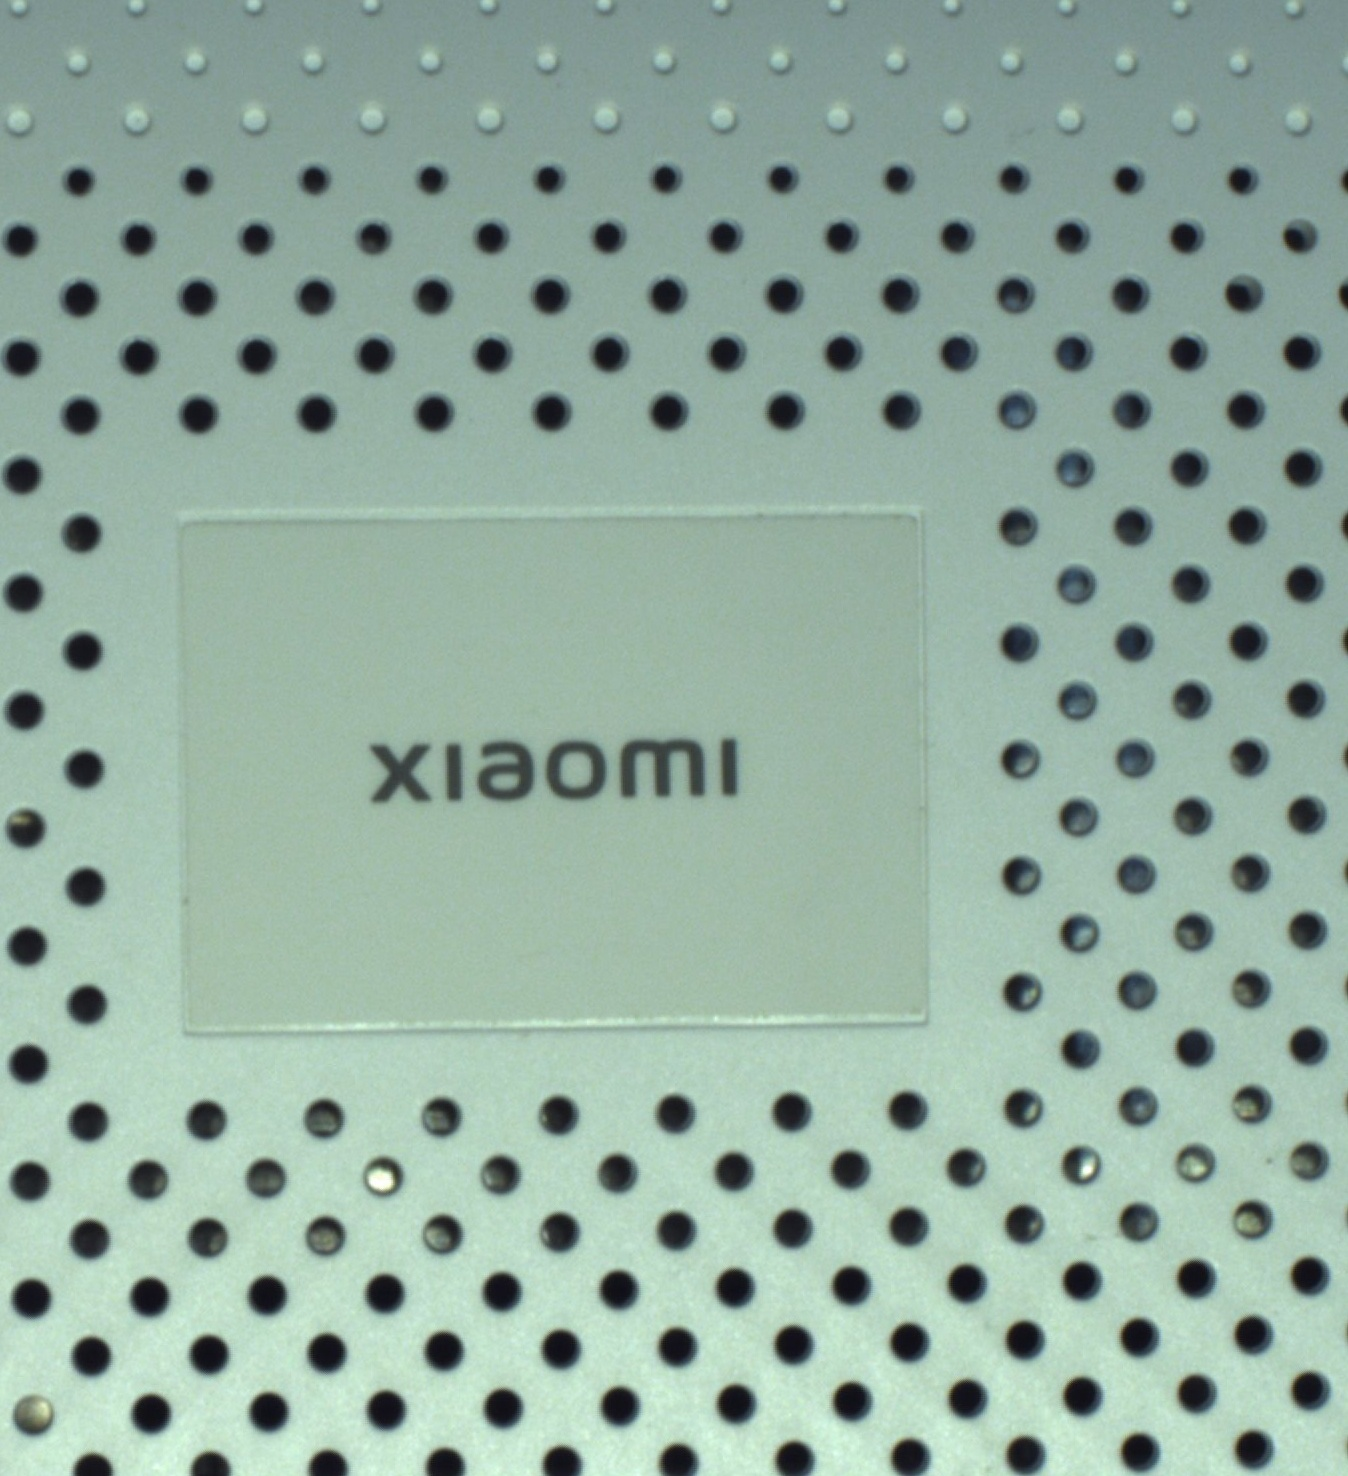MAB_OldUnicom: (356, 721, 747, 819)
